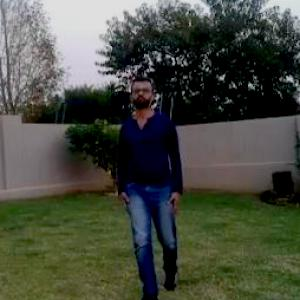follow: (114, 63, 186, 298)
